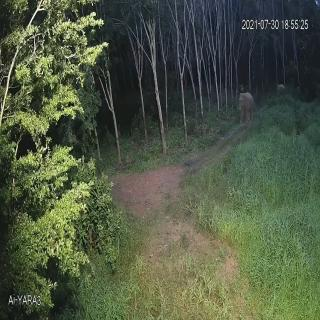Elephant: (233, 83, 260, 129)
